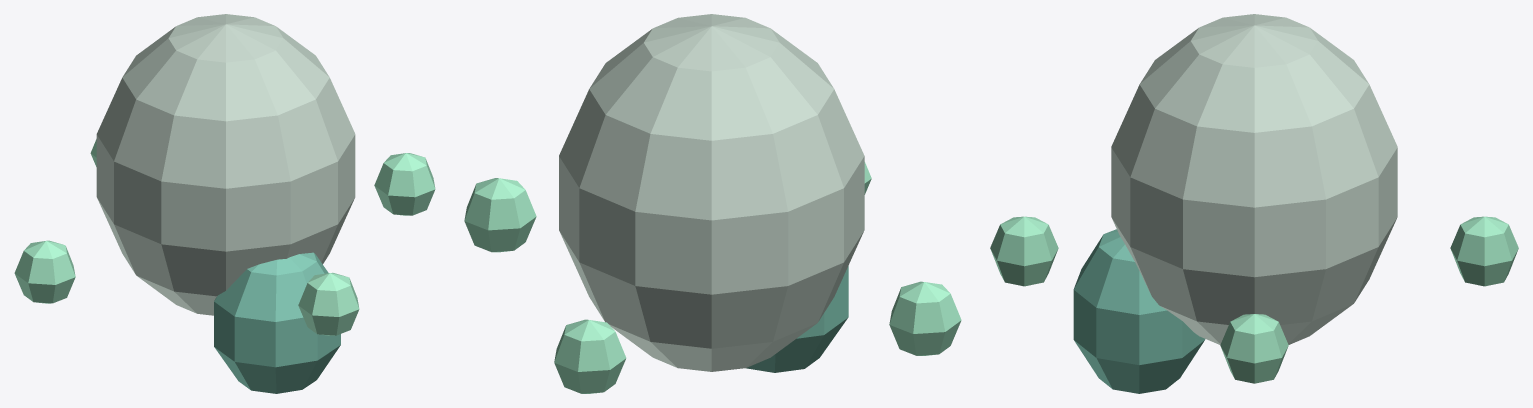
Rendered from fuego_fatuo.glb.
3 renders of one model, left to right at view 1: azimuth 30°, elevation 25°; view 2: azimuth 150°, elevation 25°; view 3: azimuth 270°, elevation 25°, orthographic. The views are drawn at different scales.
Visible parts, largest first — view 1: fuego_fatuo; view 2: fuego_fatuo; view 3: fuego_fatuo.
Part boxes in pixels (x1,y1,x2,y2): fuego_fatuo: (14,14,435,393); fuego_fatuo: (464,14,961,393); fuego_fatuo: (990,14,1518,393).
Bounding box in the file's own units: 0.8246 × 0.63 × 0.8272.
